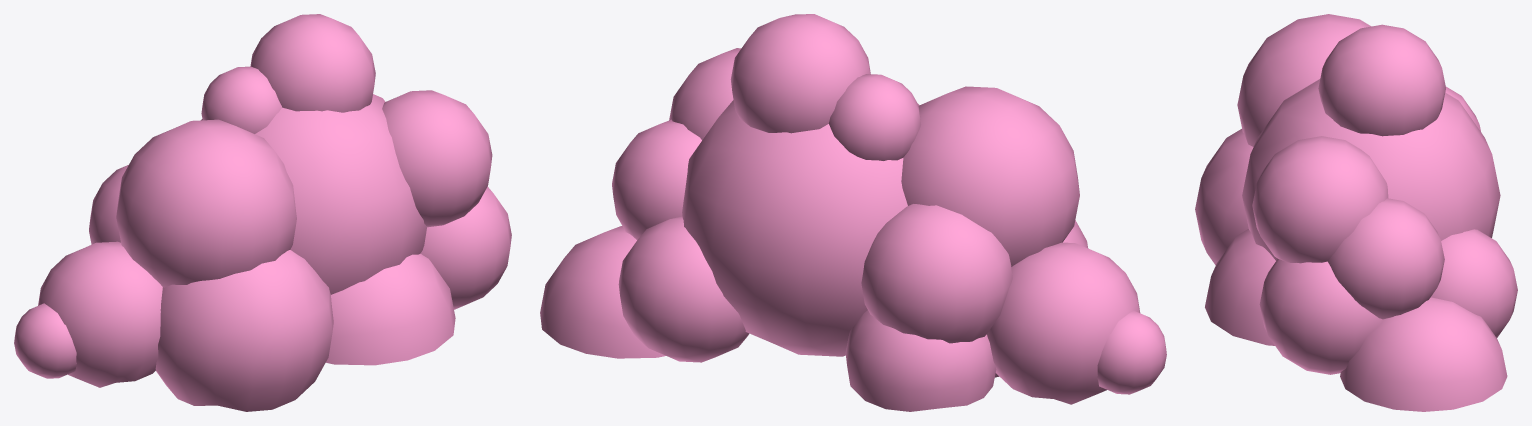
Rendered from Algodon.fbx.
The picture shows the model from 3 angles, left to right: view 1: azimuth 30°, elevation 25°; view 2: azimuth 150°, elevation 25°; view 3: azimuth 270°, elevation 25°; orthographic projection. The views are drawn at different scales.
Visible parts, largest first — view 1: Algodon; view 2: Algodon; view 3: Algodon.
Boxes of the visible parts, x1,y1,x2,y2 form: Algodon: (14, 14, 511, 411); Algodon: (540, 14, 1166, 411); Algodon: (1195, 14, 1517, 411).
Bounding box in the file's own units: 780 × 440 × 431.
